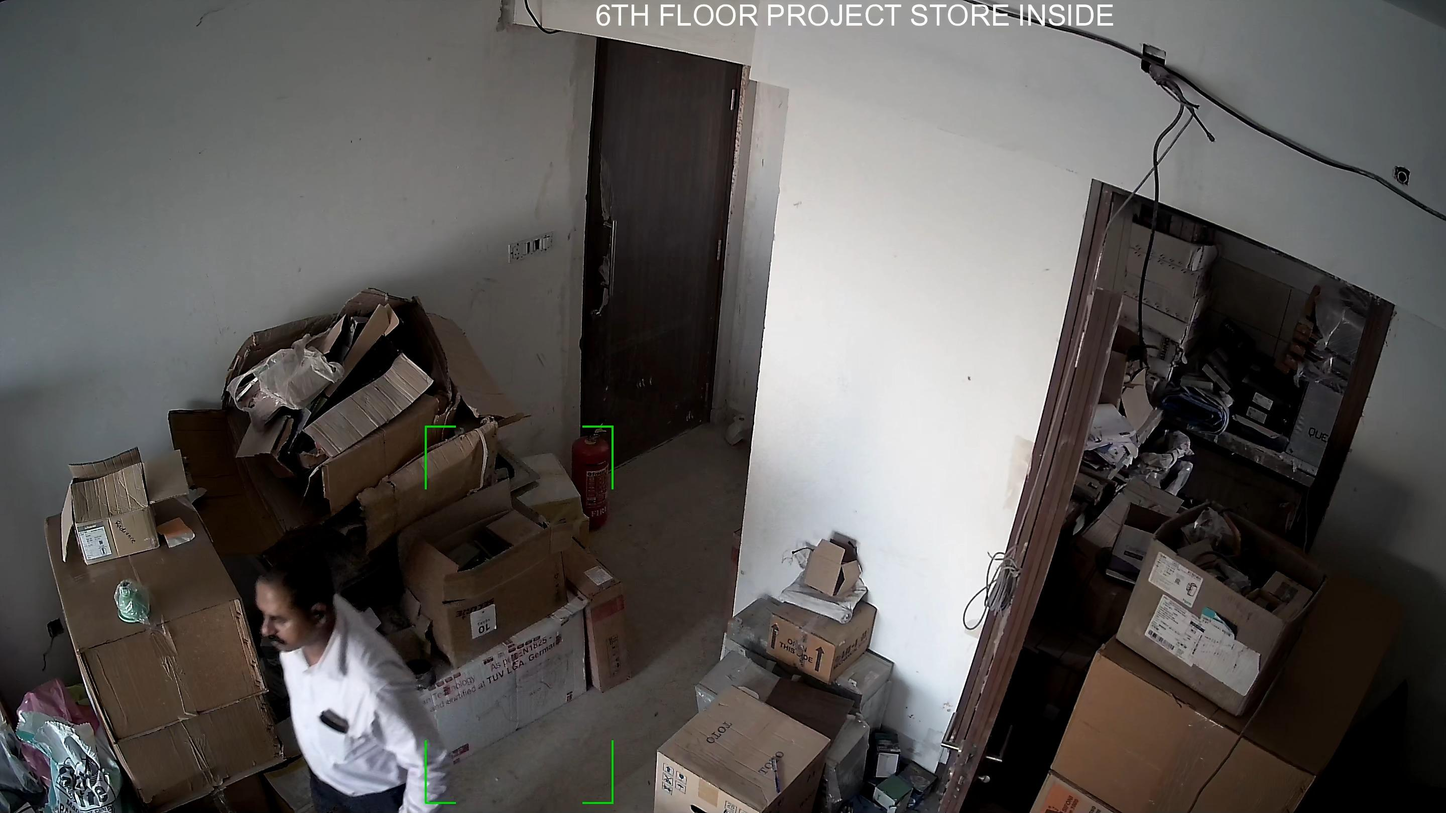Door-Close: (566, 29, 750, 488)
